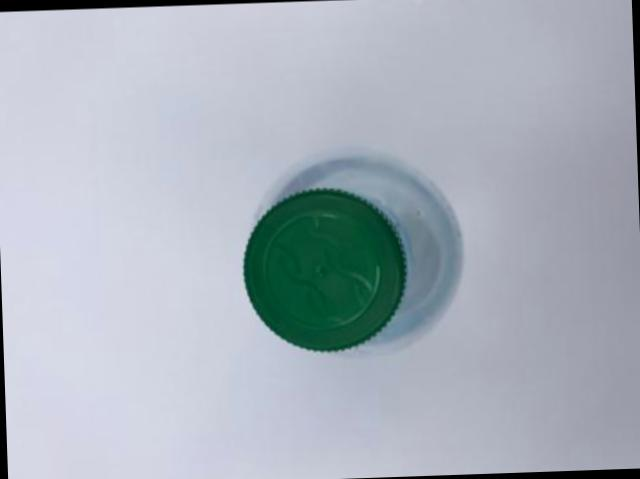plastic: (243, 159, 460, 356)
